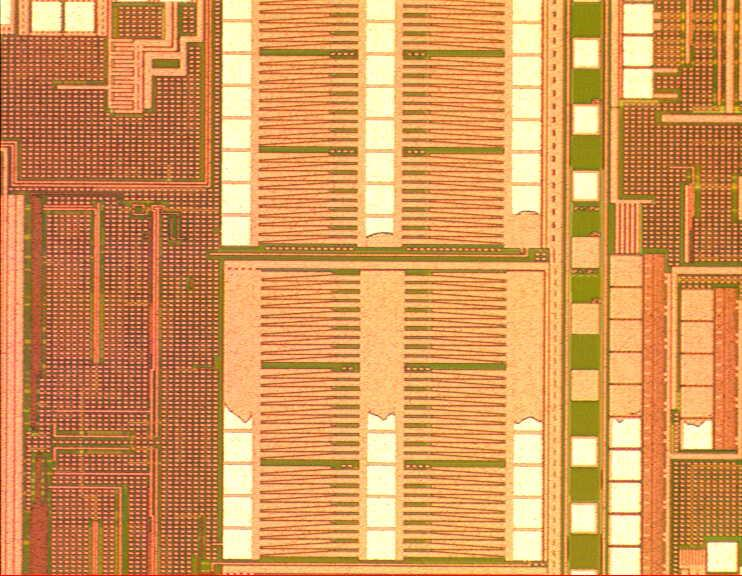COATING BAD: (200, 209, 742, 433)
